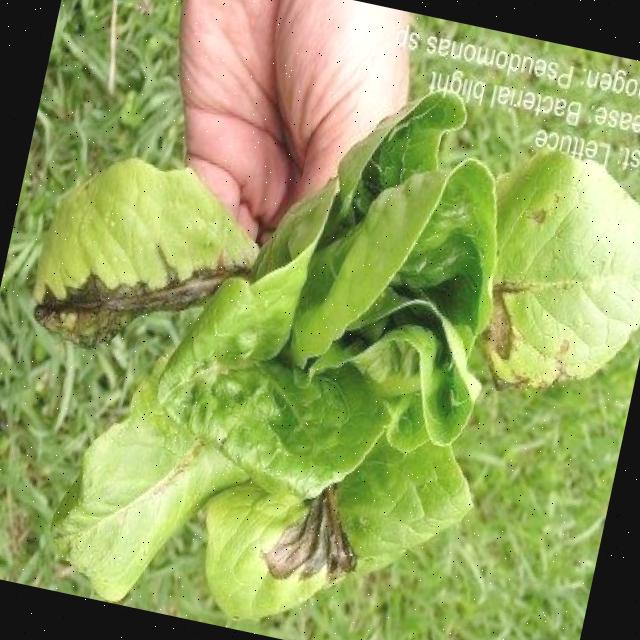Septoria_Blight_on_lettuce: (23, 141, 280, 382), (212, 414, 428, 628)
